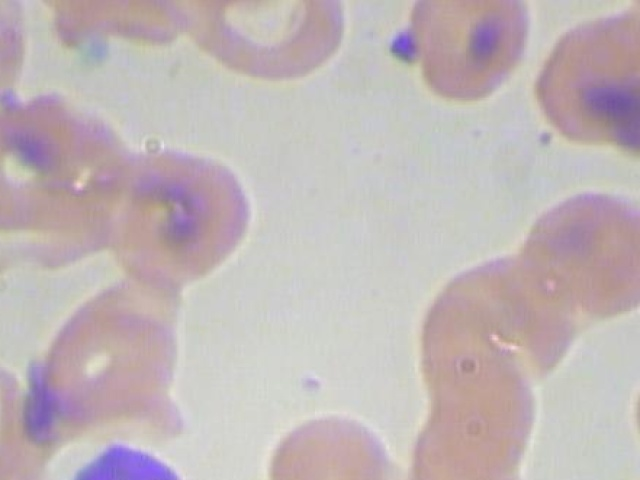Platelets: (371, 26, 424, 70)
RBC: (437, 243, 603, 381), (103, 144, 269, 282), (25, 299, 191, 437), (0, 95, 133, 264), (514, 184, 640, 323), (379, 0, 545, 102), (528, 7, 640, 154), (181, 0, 347, 90), (252, 407, 418, 480), (592, 12, 640, 172), (0, 340, 45, 479), (0, 0, 48, 108), (614, 335, 640, 474), (0, 441, 59, 480), (428, 473, 569, 480)
WBC: (55, 435, 225, 480)
